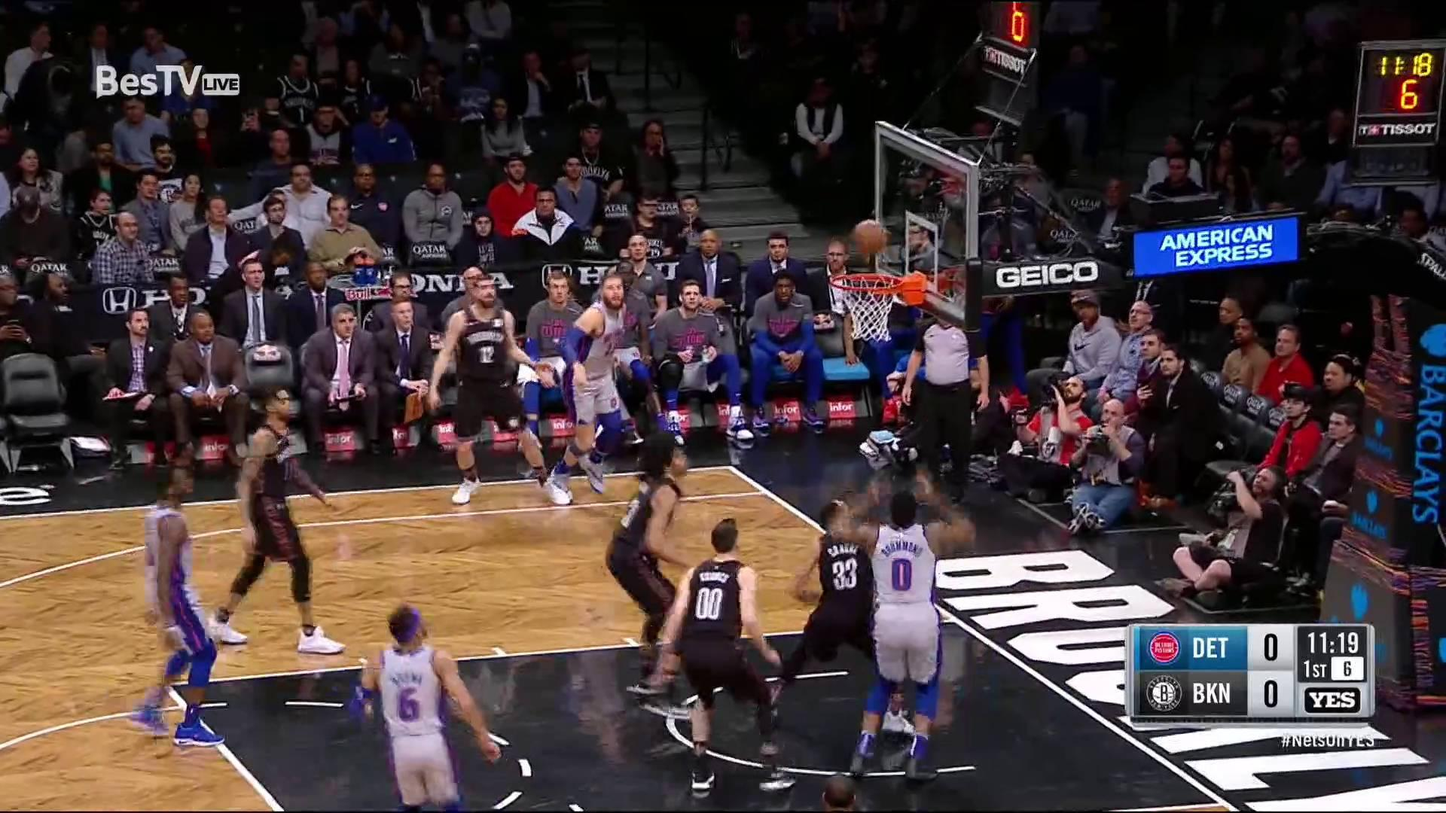basketball: (851, 218, 889, 260)
